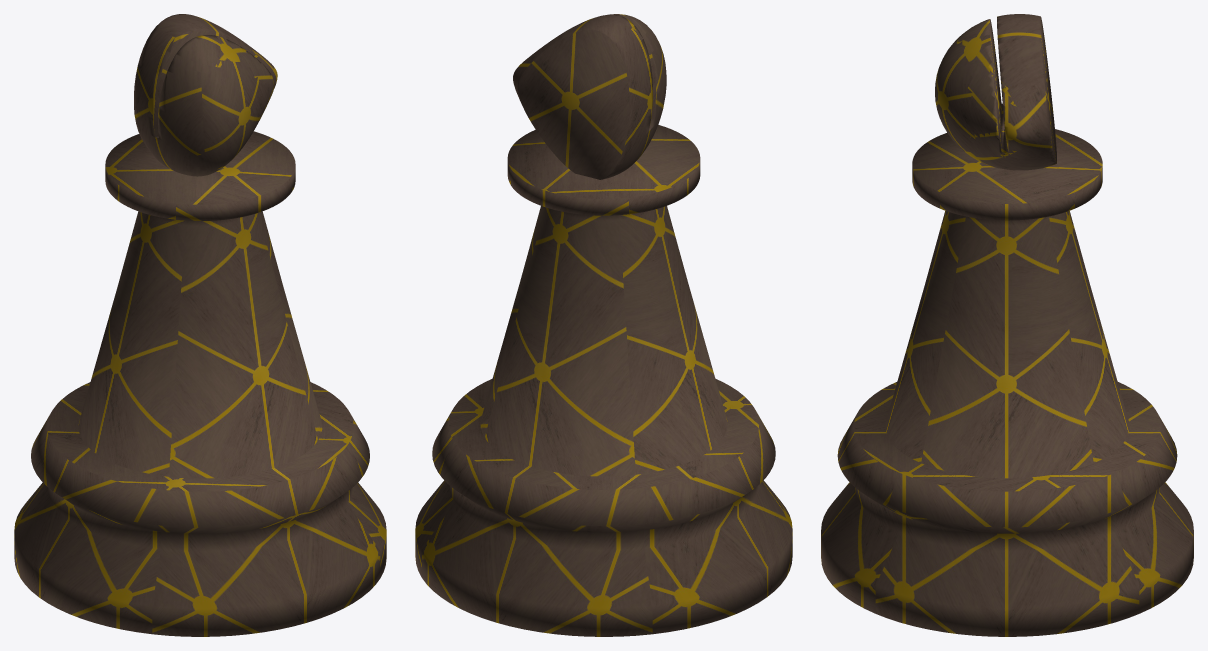
The model's file is ALL.gltf.
3 views of the same model, side by side, from view 1: azimuth 30°, elevation 25°; view 2: azimuth 150°, elevation 25°; view 3: azimuth 270°, elevation 25° (orthographic).
Visible parts, largest first — view 1: BishopBlack1; view 2: BishopBlack1; view 3: BishopBlack1.
Part boxes in pixels (x1,y1,x2,y2): BishopBlack1: [14, 14, 386, 636]; BishopBlack1: [415, 14, 792, 636]; BishopBlack1: [821, 14, 1193, 636].
Bounding box in the file's own units: 0.0218 × 0.0346 × 0.0218.
1 material, 1 textured.
